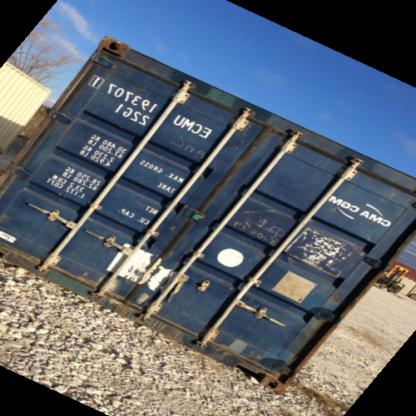Damage: (100, 233, 190, 306), (293, 226, 358, 279), (232, 204, 278, 250), (166, 122, 210, 160), (215, 337, 269, 364), (228, 125, 272, 158), (100, 38, 128, 65)
